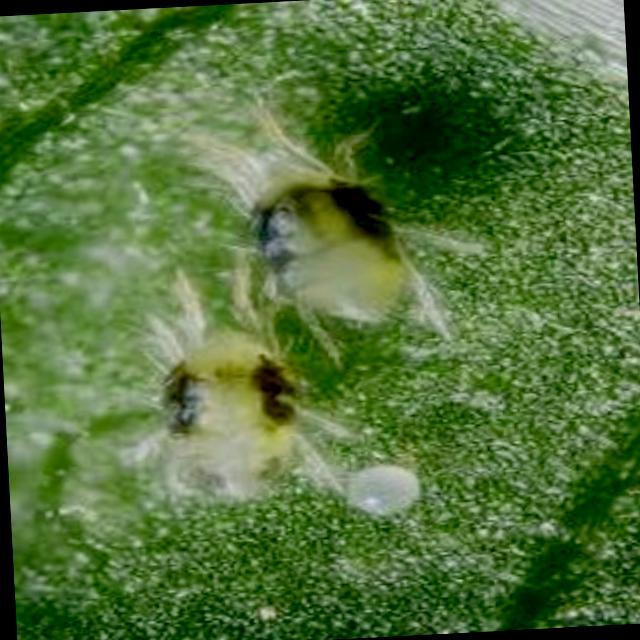spider mite: (182, 74, 491, 362), (114, 296, 345, 528)
